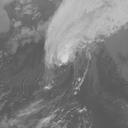cyclone: (44, 34, 87, 91)
